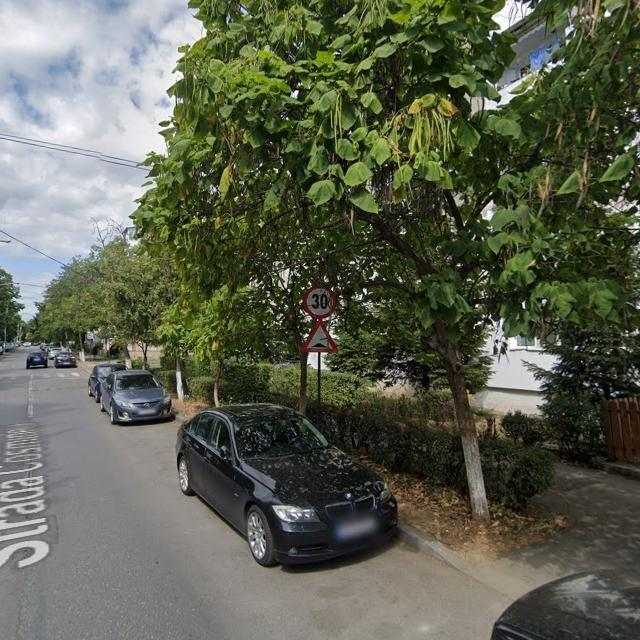forb_speed_over_30: (303, 287, 338, 318)
